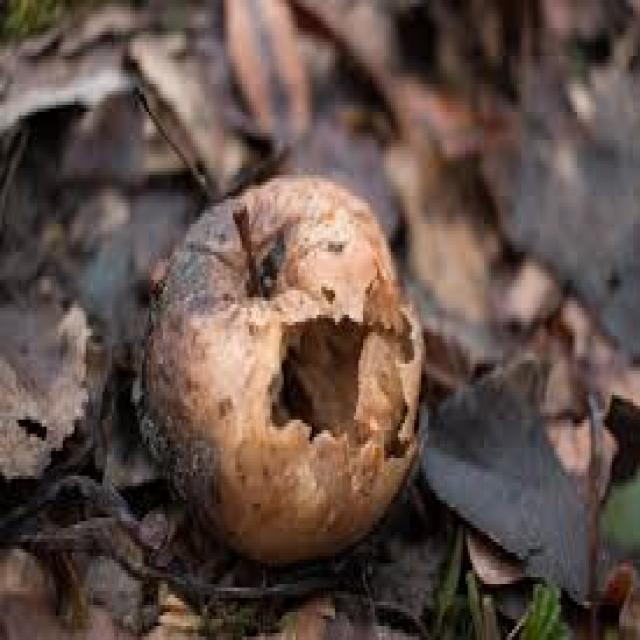food_waste: (142, 175, 424, 560)
